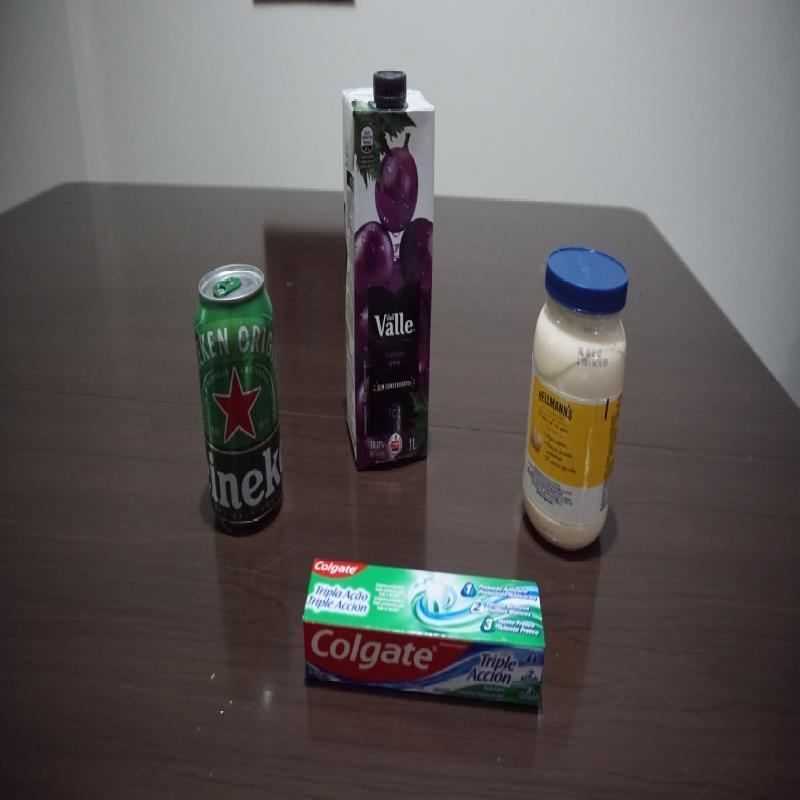Beer can: (196, 260, 286, 528)
Mayonnaise: (514, 248, 632, 552)
Toothpaste: (301, 550, 549, 726)
